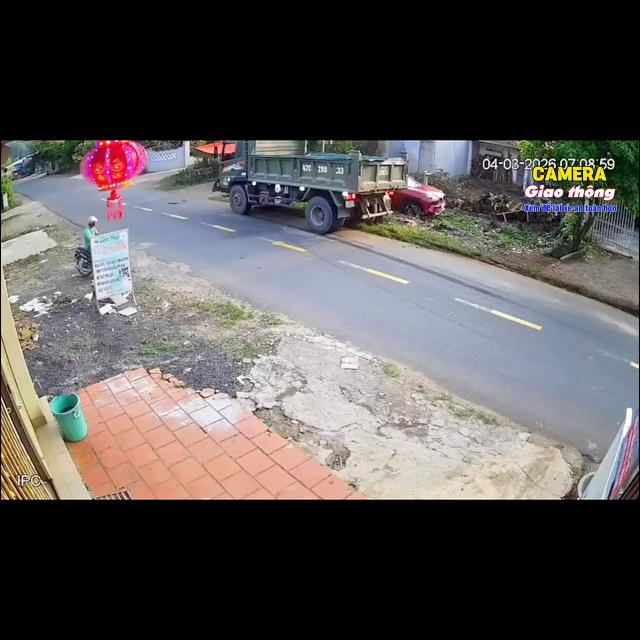car: (392, 176, 445, 216)
motorcycle: (75, 247, 92, 276)
truck: (217, 140, 407, 233)
